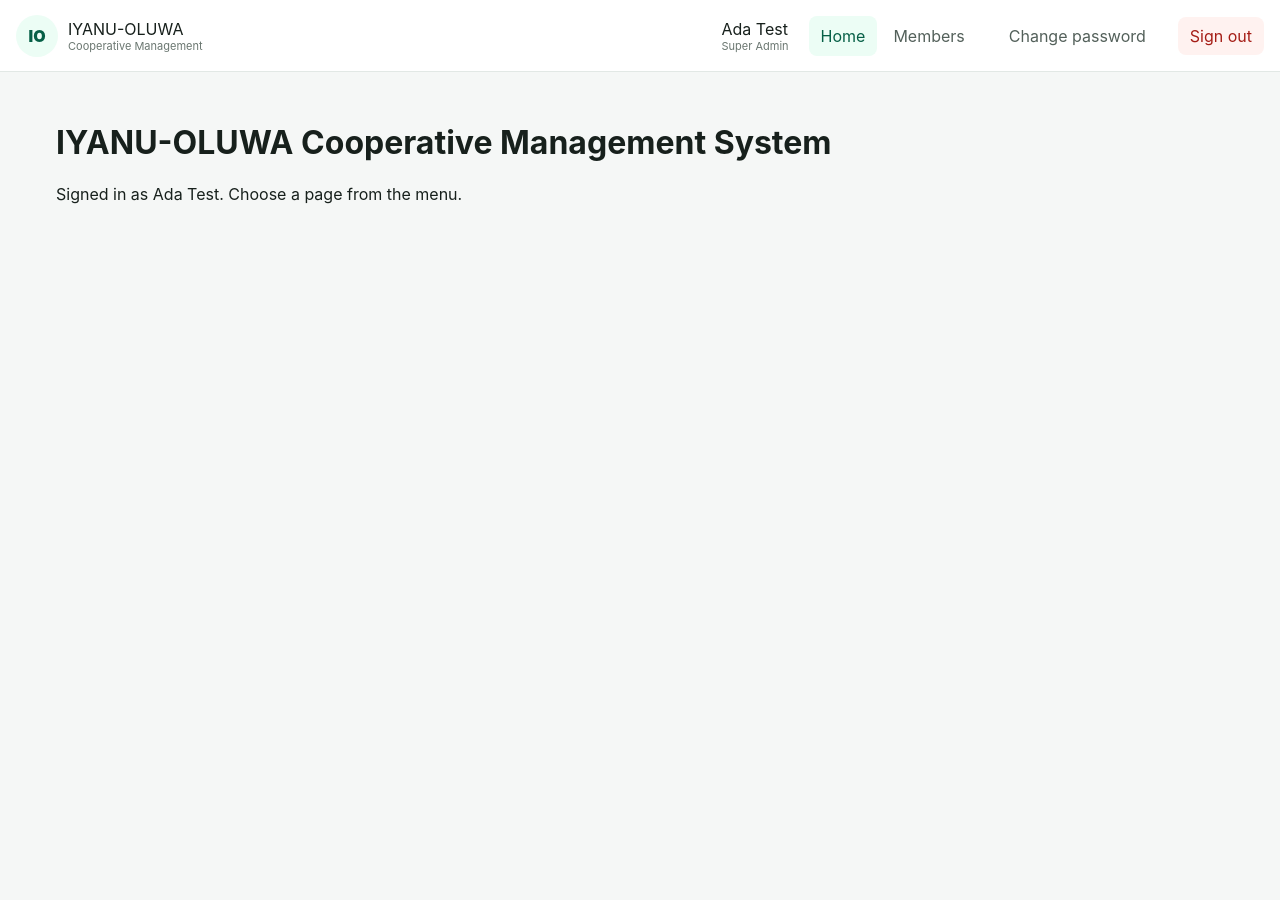
it: member detail (jsdom) › says when there are no loans or payments
Click the button "Members": (929, 36) [881,16,977,56]
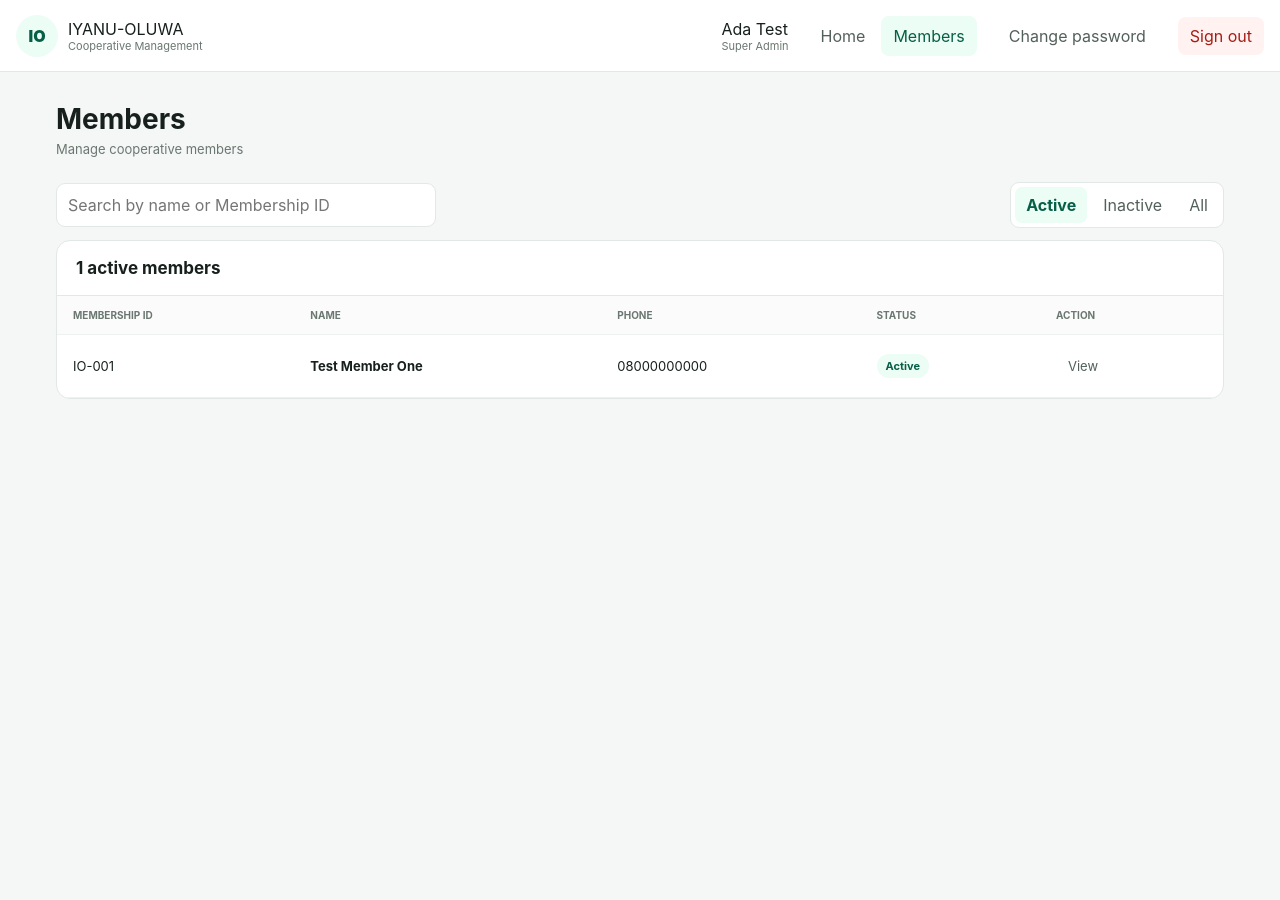
Click the button with aria-label "View Test Member One": (1083, 366) [1056,348,1110,384]
(page scrolled)
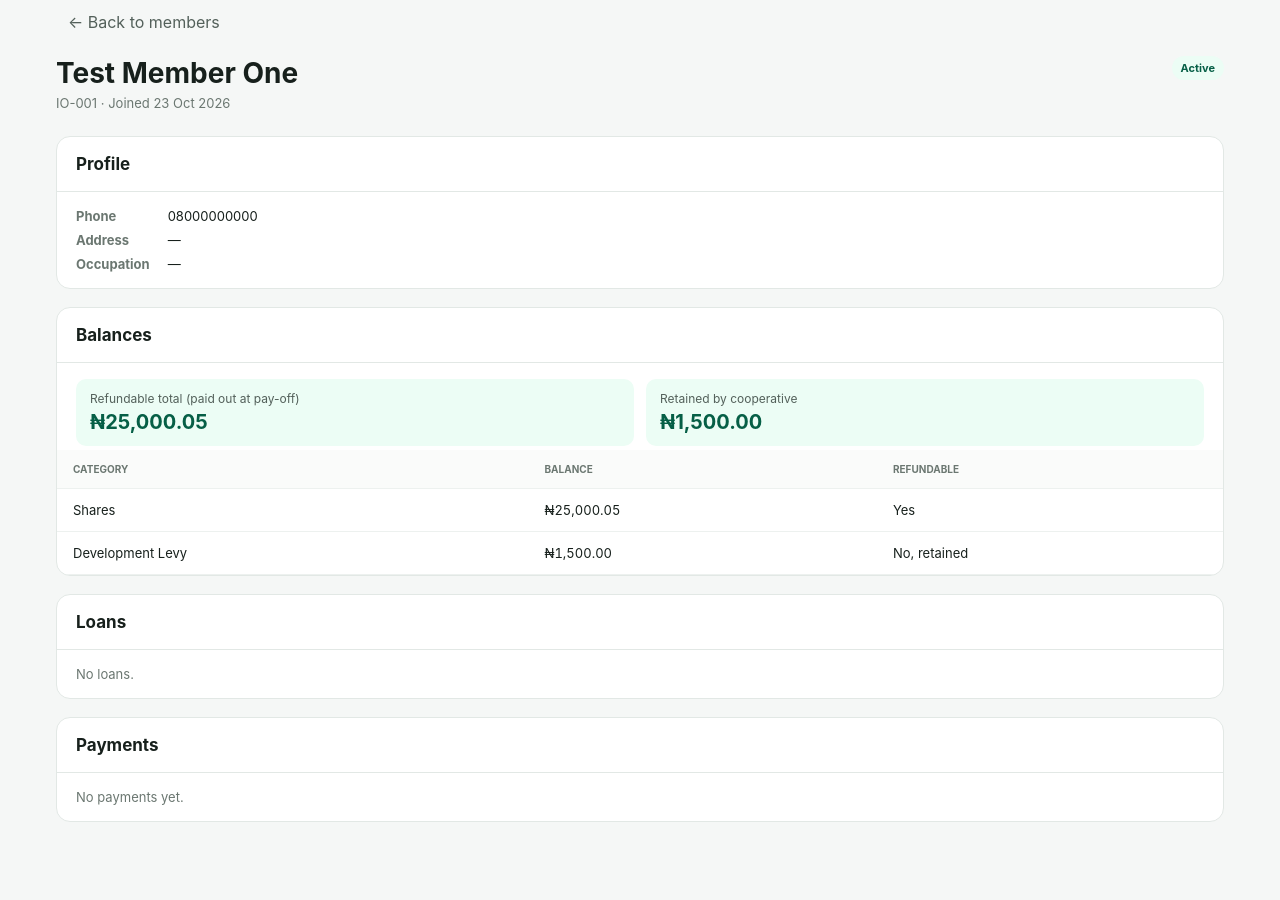
expect the element showing "Loans No loans." is shown: met, box [56,594,1224,699]
expect the element showing "Payments No payments yet." is shown: met, box [56,717,1224,822]
